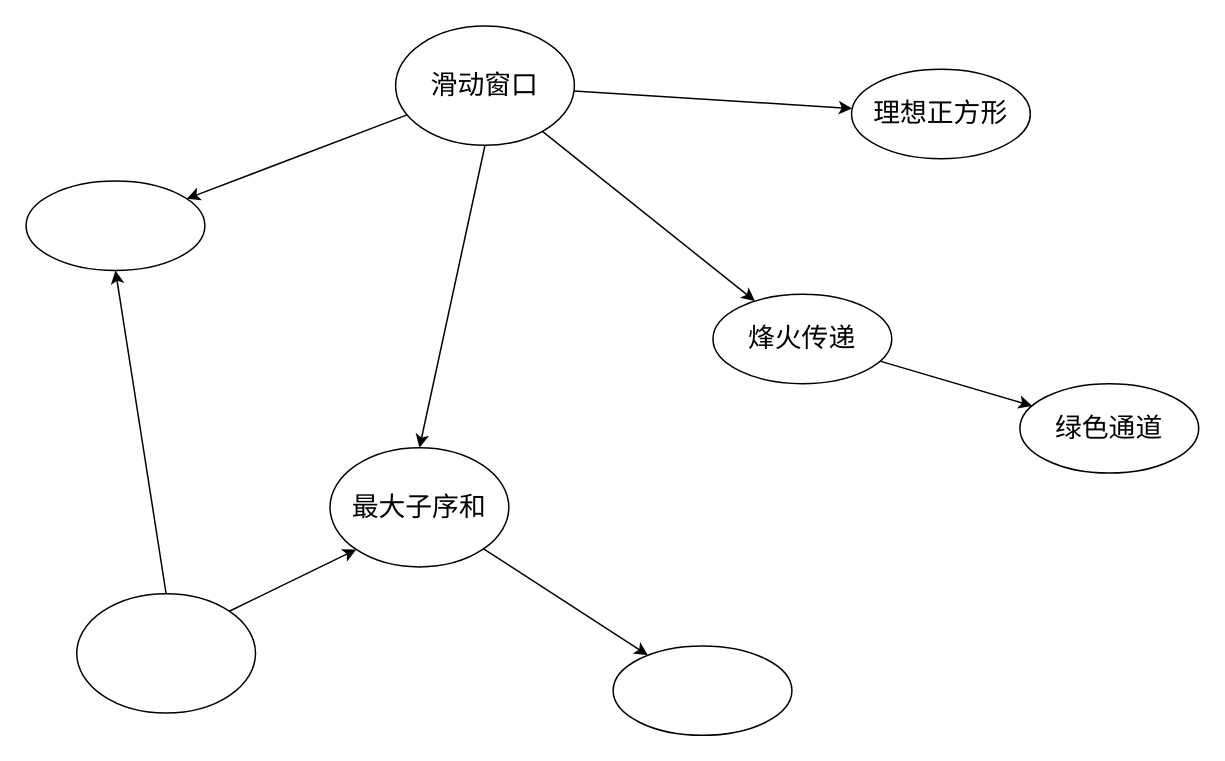
This 1225x761 diagram has some shape labels left out. The shapes that lost their labels are listed below. From the top down, each one's box as (x1, y1, x2, y2) in pixels, then its label:
(25, 180, 205, 270): 修剪草坪
(75, 592, 256, 713): 前缀和
(612, 644, 792, 735): 旅行问题
